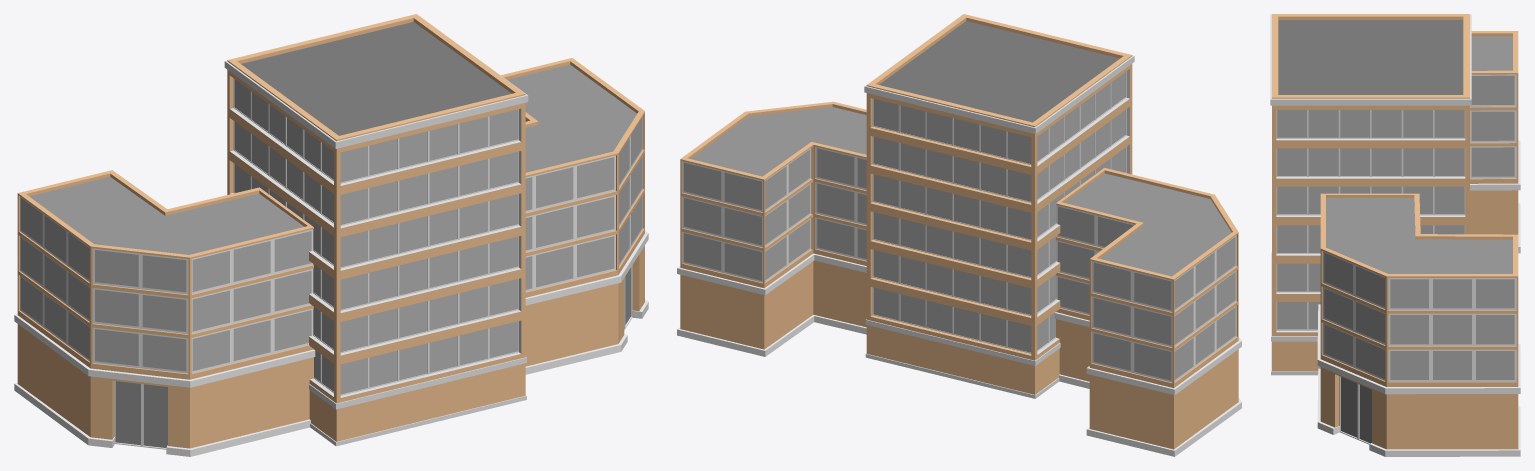
File: SM_House_15_01.FBX
3 renders of one model, left to right at view 1: azimuth 30°, elevation 25°; view 2: azimuth 150°, elevation 25°; view 3: azimuth 270°, elevation 25°, orthographic. The views are drawn at different scales.
Parts seen in each view (by area): view 1: SM_House_15_01; view 2: SM_House_15_01; view 3: SM_House_15_01.
Boxes of the visible parts, box(x1,y1,x2,y2) form: SM_House_15_01: box(14, 14, 648, 456); SM_House_15_01: box(677, 14, 1241, 456); SM_House_15_01: box(1270, 14, 1520, 456).
Bounding box in the file's own units: 17.78 × 9.28 × 7.6.
2 materials, 2 textured.
